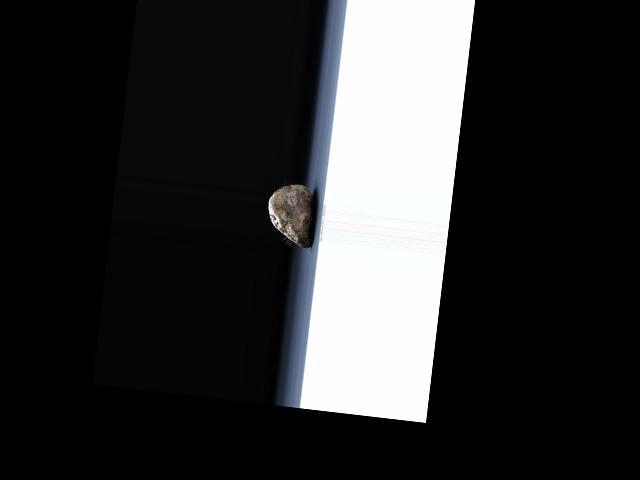beet: (264, 180, 317, 247)
